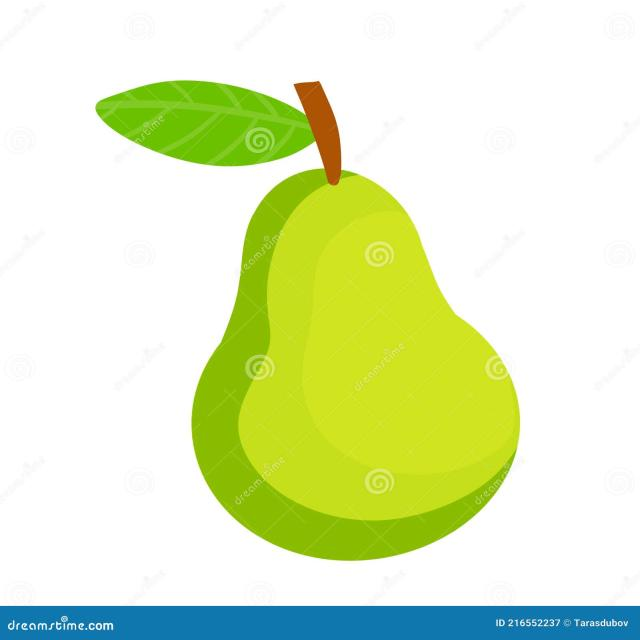pera: (86, 58, 557, 574)
